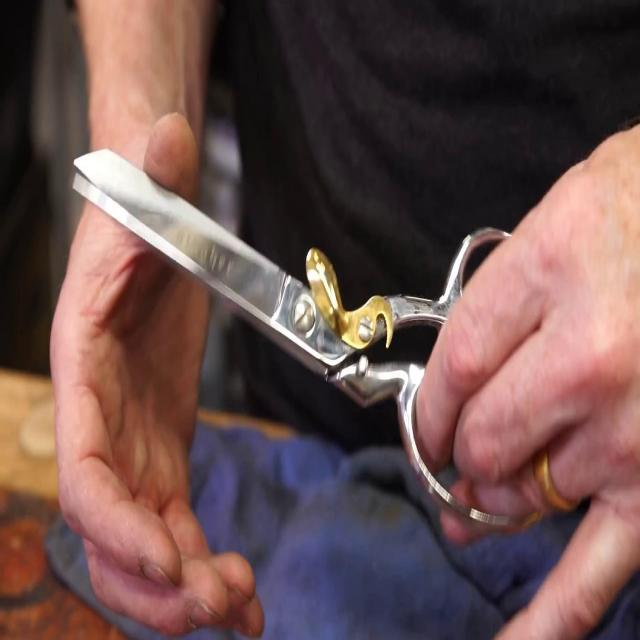scissor: (72, 148, 542, 528)
